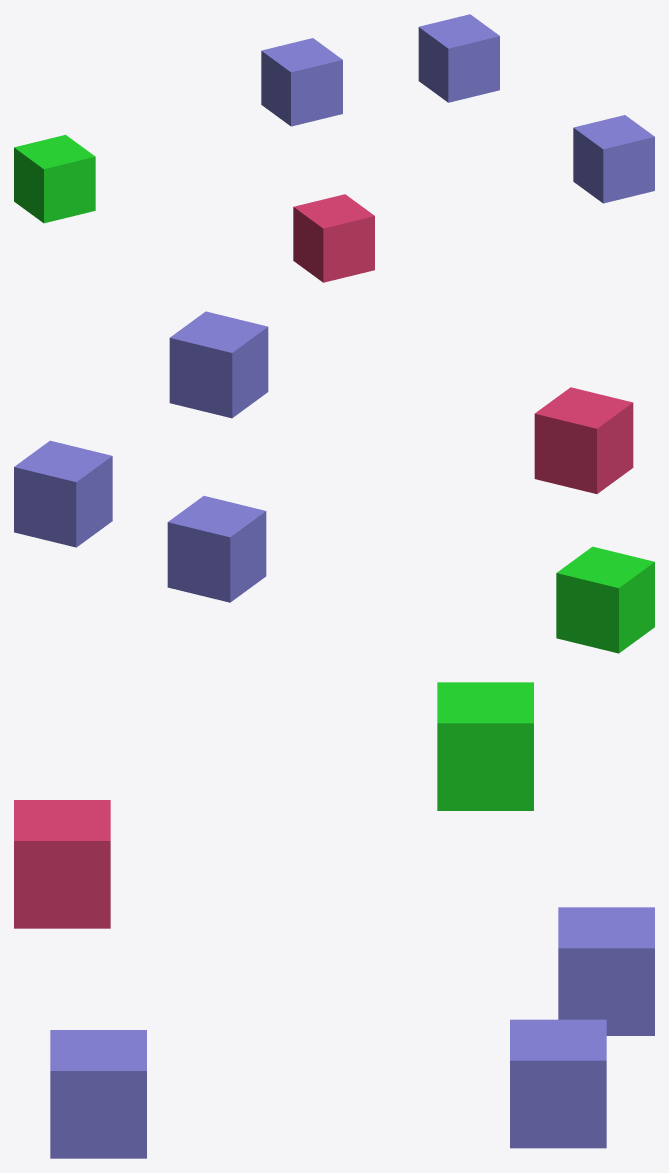
File: city.glb
The picture shows the model from 3 angles, top to bottom: view 1: azimuth 30°, elevation 25°; view 2: azimuth 150°, elevation 25°; view 3: azimuth 270°, elevation 25°; orthographic projection. The views are drawn at different scales.
Parts seen in each view (by area): view 1: Cube.001, Cube.002, Cube, Cube.004, Cube.003; view 2: Cube.002, Cube.001, Cube.004, Cube, Cube.003; view 3: Cube.003, Cube, Cube.001, Cube.002, Cube.004.
Part boxes in pixels (x1,y1,x2,y2): Cube.001: (293, 194, 374, 282); Cube.002: (573, 115, 654, 203); Cube: (14, 134, 95, 223); Cube.004: (261, 38, 342, 126); Cube.003: (418, 14, 499, 102); Cube.002: (169, 311, 268, 418); Cube.001: (534, 387, 633, 493); Cube.004: (167, 496, 266, 602); Cube: (556, 546, 654, 653); Cube.003: (14, 440, 112, 547); Cube.003: (510, 1019, 606, 1148); Cube: (437, 682, 533, 810); Cube.001: (14, 800, 110, 928); Cube.002: (50, 1030, 146, 1158); Cube.004: (558, 907, 654, 1035).
Size of what is drawn, in the model's own units: 19 by 2 by 13.25.
